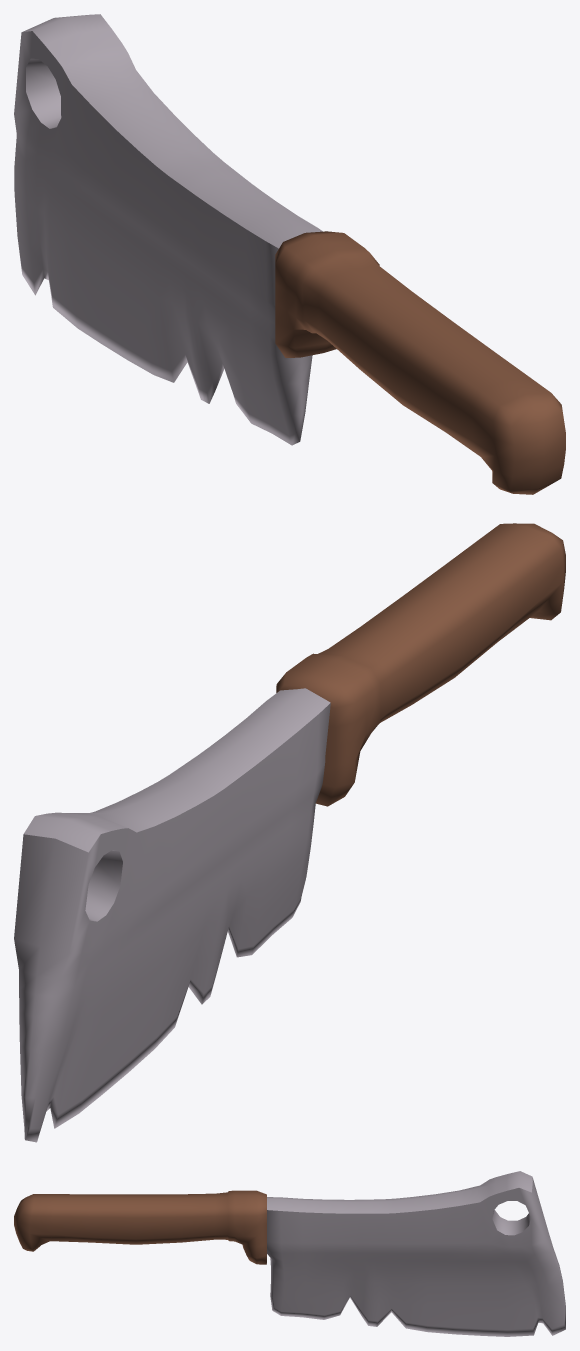
The model's file is knife.fbx.
3 renders of one model, top to bottom at view 1: azimuth 30°, elevation 25°; view 2: azimuth 150°, elevation 25°; view 3: azimuth 270°, elevation 25°, orthographic. The views are drawn at different scales.
Visible parts, largest first — view 1: knife_geo; view 2: knife_geo; view 3: knife_geo.
Boxes of the visible parts, left/top/right/bottom form: knife_geo: left=14, top=14, right=565, bottom=494; knife_geo: left=14, top=523, right=565, bottom=1142; knife_geo: left=14, top=1171, right=565, bottom=1336.
Size of the model in its own units: 10.86 by 40 by 125.
